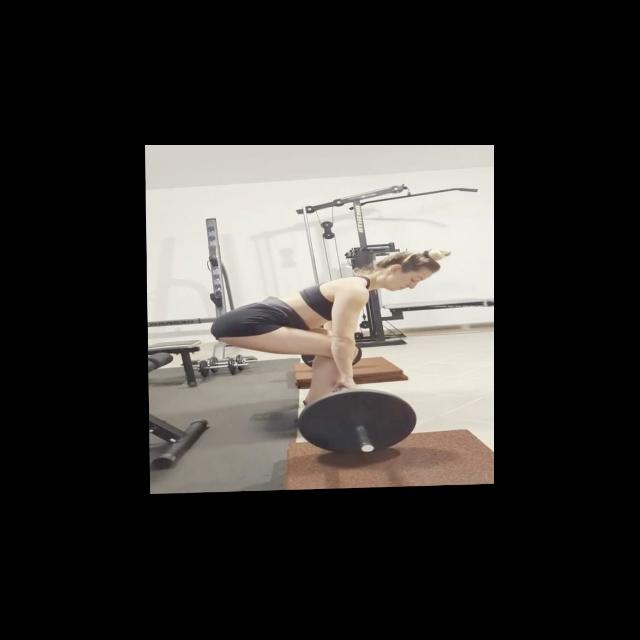barbell: (290, 387, 419, 461)
